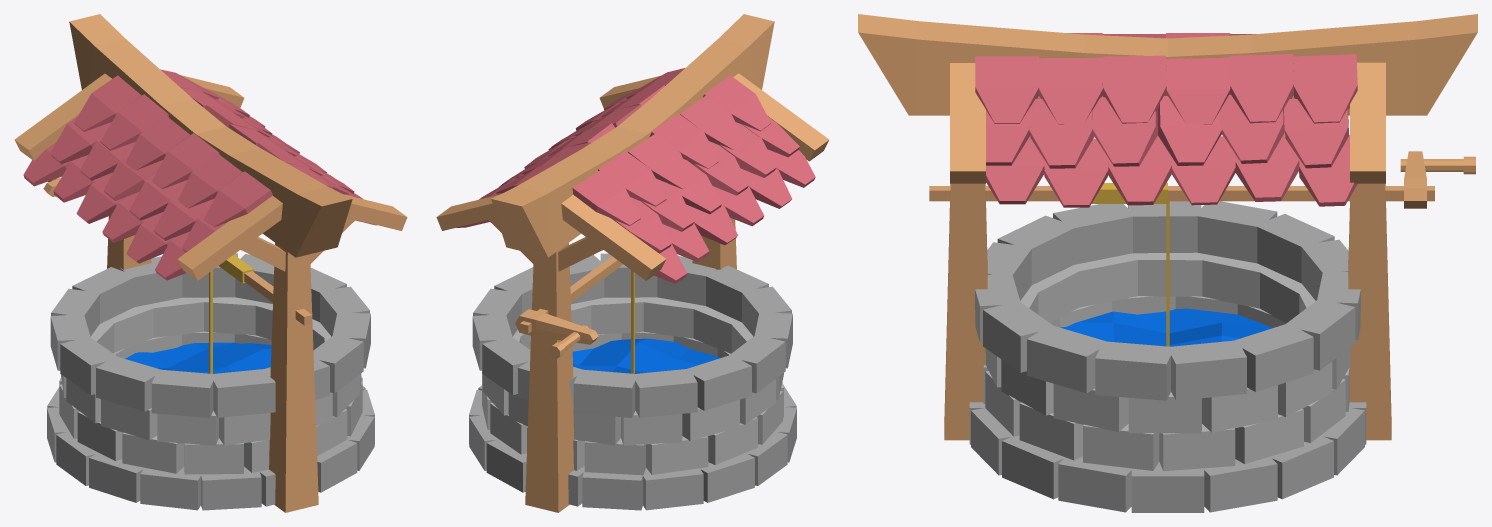
File: water well.fbx
3 renders of one model, left to right at view 1: azimuth 30°, elevation 25°; view 2: azimuth 150°, elevation 25°; view 3: azimuth 270°, elevation 25°, orthographic. The views are drawn at different scales.
Visible parts, largest first — view 1: break 1.003, Cube.005, Cube.001, break 1.002, break 1, Cube, break 1.001, Cube.006, Cube.003, Cube.007, Plane, Cube.004 (+2 smaller); view 2: break 1.003, Cube.005, Cube.001, break 1.002, break 1, Cube, break 1.001, Cube.006, Cube.003, Cube.007, Plane, Cube.002 (+1 smaller); view 3: break 1.003, Cube.001, break 1.002, Cube.005, break 1, Cube, break 1.001, Cube.006, Cube.007, Cube.003, Plane, Cube.002.
Boxes of the visible parts, left/top/right/bottom form: break 1.003: left=50, top=253, right=370, bottom=417; Cube.005: left=74, top=69, right=348, bottom=227; Cube.001: left=69, top=14, right=352, bottom=257; break 1.002: left=60, top=297, right=361, bottom=445; break 1: left=47, top=386, right=374, bottom=510; Cube: left=107, top=215, right=318, bottom=512; break 1.001: left=59, top=331, right=362, bottom=474; Cube.006: left=50, top=89, right=360, bottom=252; Cube.003: left=14, top=73, right=407, bottom=280; Cube.007: left=23, top=116, right=376, bottom=280; Plane: left=125, top=342, right=271, bottom=447; Cube.004: left=240, top=218, right=355, bottom=271; break 1.003: left=472, top=253, right=792, bottom=417; Cube.005: left=496, top=68, right=770, bottom=225; Cube.001: left=491, top=14, right=774, bottom=257; break 1.002: left=482, top=297, right=783, bottom=445; break 1: left=469, top=385, right=796, bottom=510; Cube: left=525, top=217, right=736, bottom=512; break 1.001: left=482, top=331, right=783, bottom=475; Cube.006: left=479, top=89, right=799, bottom=253; Cube.003: left=436, top=73, right=829, bottom=280; Cube.007: left=456, top=131, right=815, bottom=283; Plane: left=572, top=338, right=719, bottom=373; Cube.002: left=515, top=256, right=623, bottom=358; break 1.003: left=975, top=201, right=1360, bottom=400; Cube.001: left=858, top=14, right=1477, bottom=115; break 1.002: left=985, top=252, right=1350, bottom=433; Cube.005: left=975, top=33, right=1357, bottom=124; break 1: left=969, top=402, right=1366, bottom=512; Cube: left=944, top=183, right=1391, bottom=440; break 1.001: left=983, top=296, right=1349, bottom=471; Cube.006: left=986, top=94, right=1348, bottom=168; Cube.007: left=986, top=132, right=1357, bottom=207; Cube.003: left=950, top=62, right=1385, bottom=183; Plane: left=1060, top=308, right=1272, bottom=346; Cube.002: left=929, top=151, right=1475, bottom=208.
Size of the model in its own units: 991 by 1123 by 1550.
